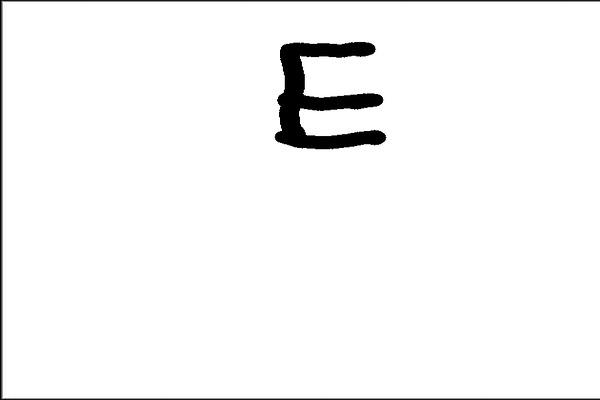E: (270, 37, 396, 153)
